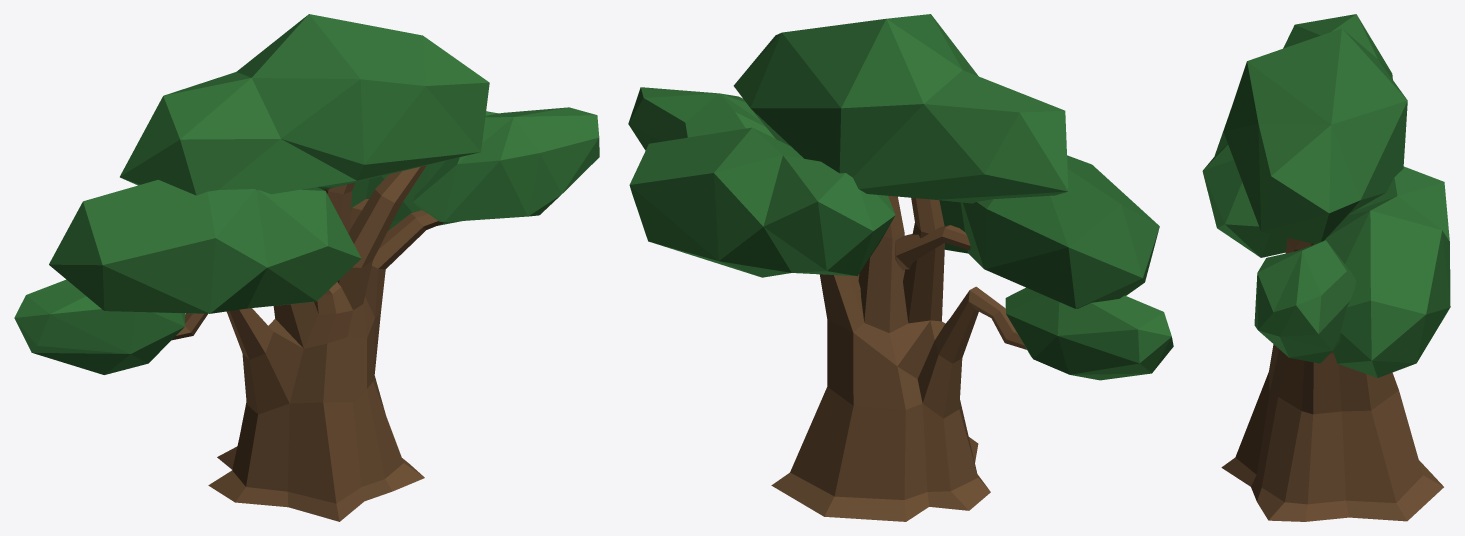
Rendered from tree-baobab.glb.
3 renders of one model, left to right at view 1: azimuth 30°, elevation 25°; view 2: azimuth 150°, elevation 25°; view 3: azimuth 270°, elevation 25°, orthographic.
Parts seen in each view (by area): view 1: tree-baobab; view 2: tree-baobab; view 3: tree-baobab.
Part boxes in pixels (x1=…): tree-baobab: x1=14, y1=14, x2=599, y2=521; tree-baobab: x1=628, y1=14, x2=1173, y2=521; tree-baobab: x1=1202, y1=14, x2=1450, y2=521.
Size of the model in its own units: 8.1 by 6.37 by 3.15.
Materials: 1 (1 with a texture image).
